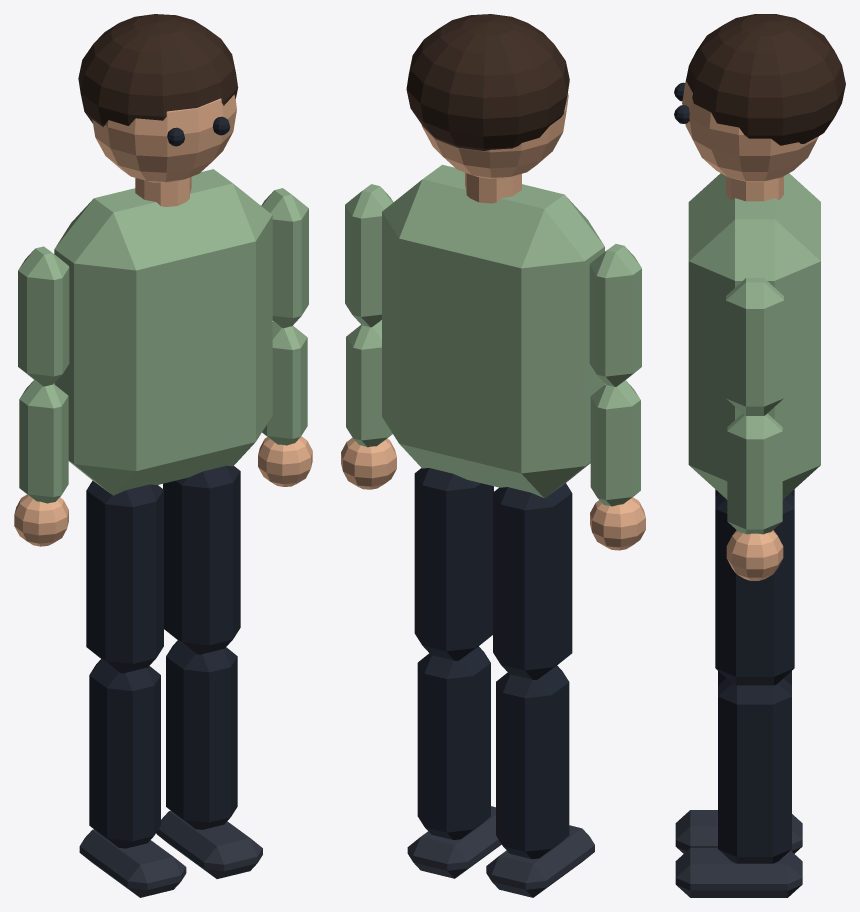
The model's file is mannequin_scale.glb.
3 views of the same model, side by side, from view 1: azimuth 30°, elevation 25°; view 2: azimuth 150°, elevation 25°; view 3: azimuth 270°, elevation 25° (orthographic). The views are drawn at different scales.
Visible parts, largest first — view 1: torso, thigh_-1, hair, thigh_1, shin_-1, shin_1, head, upperarm_-1, forearm_-1, upperarm_1, forearm_1, shoe_-1 (+4 smaller); view 2: torso, hair, thigh_-1, thigh_1, shin_-1, shin_1, upperarm_-1, forearm_-1, upperarm_1, forearm_1, shoe_-1, head (+4 smaller); view 3: torso, hair, shin_1, thigh_1, upperarm_1, forearm_1, head, shoe_1, hand_1, shoe_-1, neck.
Part boxes in pixels (x1,y1,x2,y2): torso: [54, 169, 272, 495]; thigh_-1: [86, 480, 163, 673]; hair: [78, 14, 238, 126]; thigh_1: [163, 465, 240, 654]; shin_-1: [89, 659, 160, 848]; shin_1: [166, 640, 237, 829]; head: [92, 94, 236, 182]; upperarm_-1: [18, 246, 69, 386]; forearm_-1: [19, 380, 68, 503]; upperarm_1: [261, 188, 308, 328]; forearm_1: [262, 321, 307, 445]; shoe_-1: [79, 829, 186, 897]; torso: [382, 164, 604, 498]; hair: [406, 14, 569, 150]; thigh_-1: [493, 483, 572, 679]; thigh_1: [414, 468, 493, 660]; shin_-1: [496, 665, 569, 859]; shin_1: [417, 646, 490, 839]; upperarm_-1: [589, 244, 641, 386]; forearm_-1: [590, 380, 640, 506]; upperarm_1: [345, 184, 393, 327]; forearm_1: [346, 320, 392, 447]; shoe_-1: [486, 825, 594, 897]; head: [422, 93, 568, 178]; torso: [688, 173, 820, 499]; hair: [686, 14, 845, 145]; shin_1: [718, 678, 791, 863]; thigh_1: [715, 493, 794, 685]; upperarm_1: [726, 278, 783, 415]; forearm_1: [727, 413, 782, 534]; head: [682, 80, 818, 182]; shoe_1: [675, 848, 802, 897]; hand_1: [726, 530, 783, 580]; shoe_-1: [675, 810, 802, 853]; neck: [726, 176, 783, 201].
Bounding box in the file's own units: 0.642 × 1.77 × 0.325.
